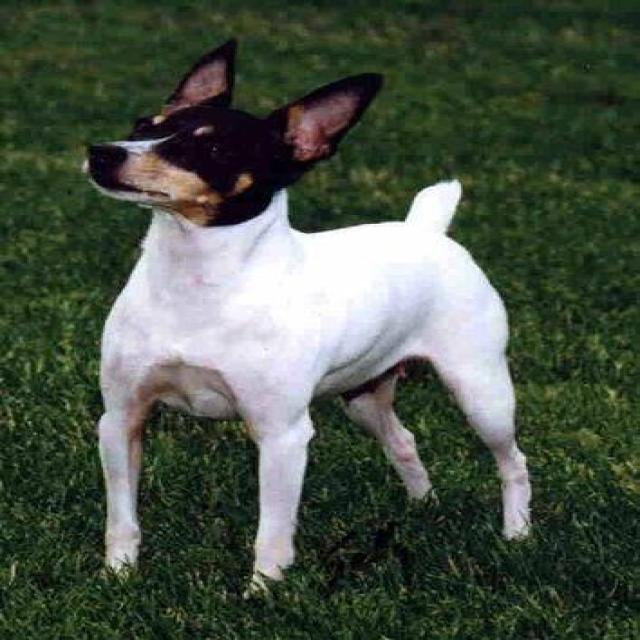toy_terrier: (81, 36, 528, 608)
